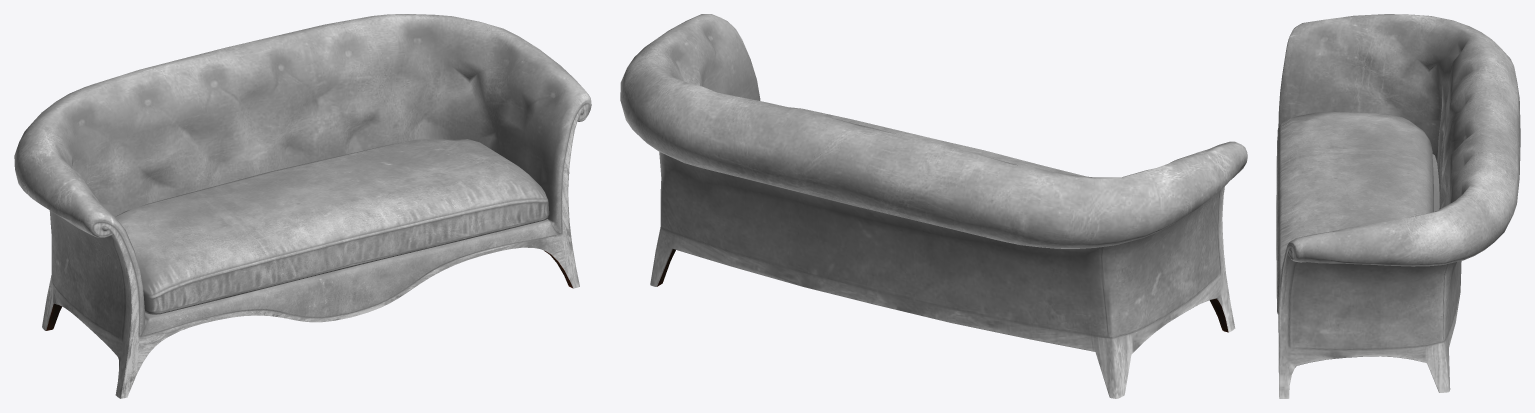
File: sofa-tufted-leather.glb
3 views of the same model, side by side, from view 1: azimuth 30°, elevation 25°; view 2: azimuth 150°, elevation 25°; view 3: azimuth 270°, elevation 25° (orthographic). The views are drawn at different scales.
Visible parts, largest first — view 1: sofa-tufted-leather; view 2: sofa-tufted-leather; view 3: sofa-tufted-leather.
Boxes of the visible parts, x1,y1,x2,y2 form: sofa-tufted-leather: (14, 14, 591, 398); sofa-tufted-leather: (620, 14, 1247, 398); sofa-tufted-leather: (1276, 14, 1520, 398).
Size of the model in its own units: 1.81 by 0.7095 by 0.8177.
Materials: 2 (2 with a texture image).
